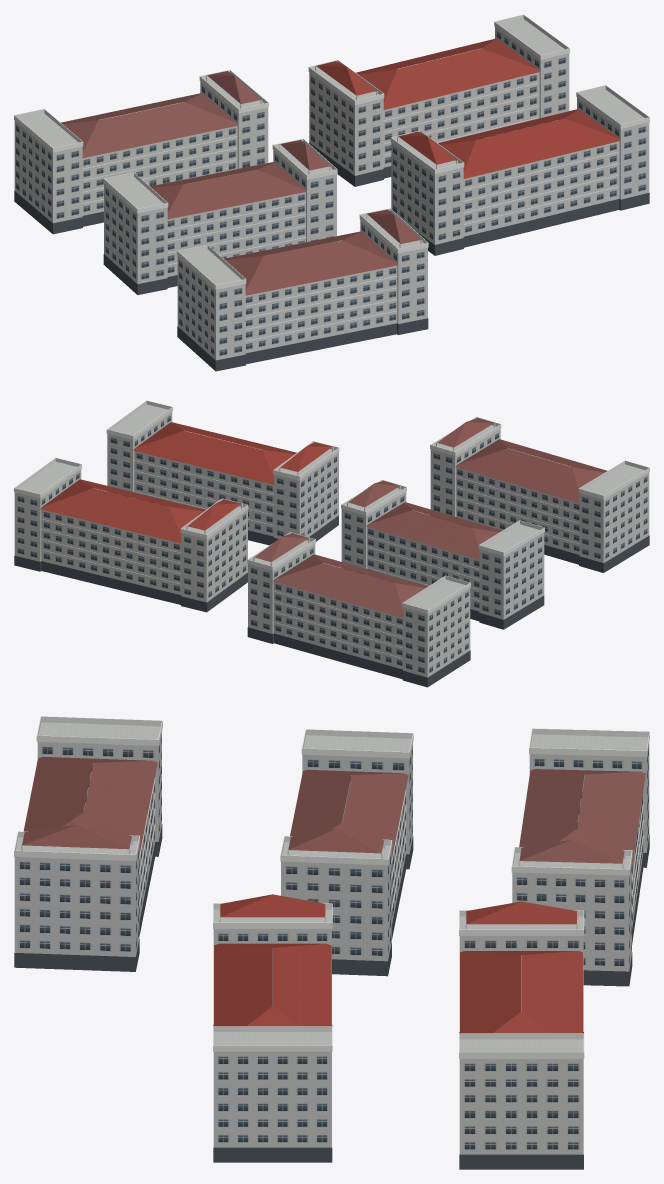
The model's file is dorm_wenyuan_b2.glb.
The picture shows the model from 3 angles, top to bottom: view 1: azimuth 30°, elevation 25°; view 2: azimuth 150°, elevation 25°; view 3: azimuth 270°, elevation 25°; orthographic projection. The views are drawn at different scales.
Visible parts, largest first — view 1: 862959382, 862959383, 862959380, 862959379, 862959381; view 2: 862959380, 862959379, 862959383, 862959382, 862959381; view 3: 862959383, 862959380, 862959382, 862959379, 862959381.
Part boxes in pixels (x1,y1,x2,y2): 862959382: (390,85,649,255); 862959383: (177,208,428,371); 862959380: (308,14,569,186); 862959379: (14,70,268,234); 862959381: (103,138,337,294); 862959380: (14,457,248,612); 862959379: (247,532,470,687); 862959383: (430,417,649,572); 862959382: (106,400,339,545); 862959381: (341,480,544,629); 862959383: (14,716,162,971); 862959380: (459,901,584,1169); 862959382: (213,894,332,1162); 862959379: (511,728,649,986); 862959381: (280,729,413,976).
Size of the model in its own units: 142 by 26.8 by 114.
Materials: 4 (3 with a texture image).
